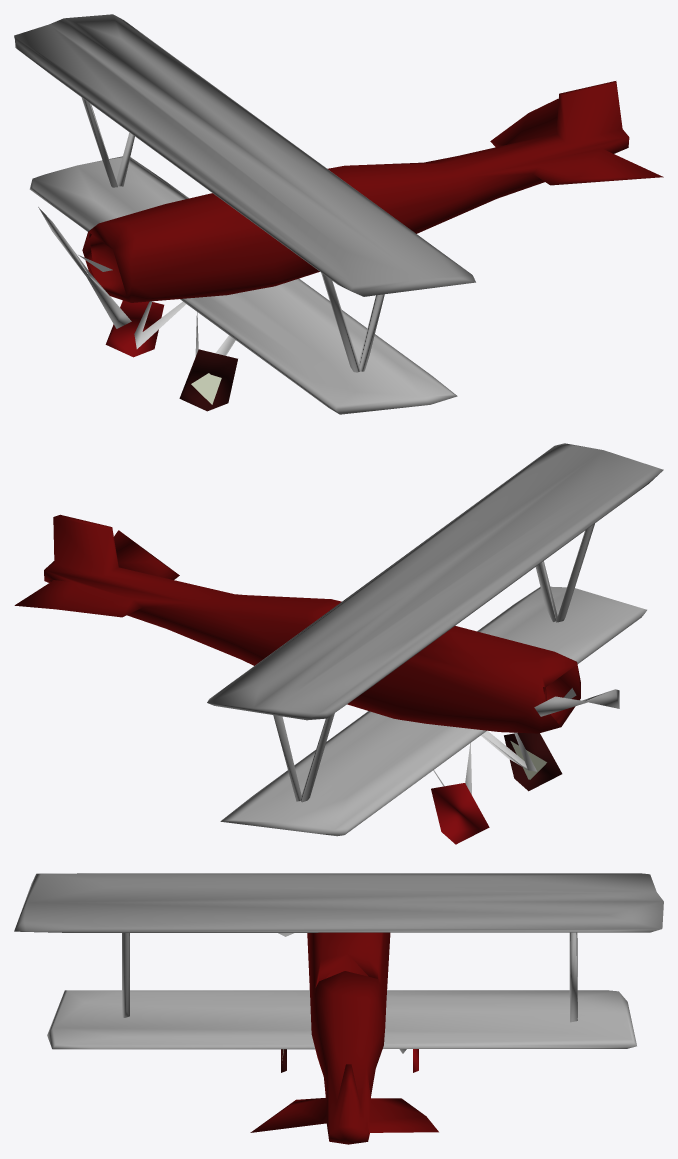
Rendered from biplane.obj.
3 views of the same model, one above another, from view 1: azimuth 30°, elevation 25°; view 2: azimuth 150°, elevation 25°; view 3: azimuth 270°, elevation 25° (orthographic). The views are drawn at different scales.
Bounding box in the file's own units: 3.06 × 1.23 × 3.59.
